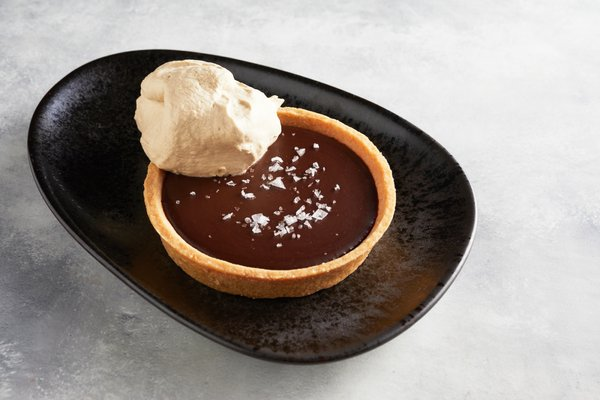sushi: (28, 35, 515, 375)
